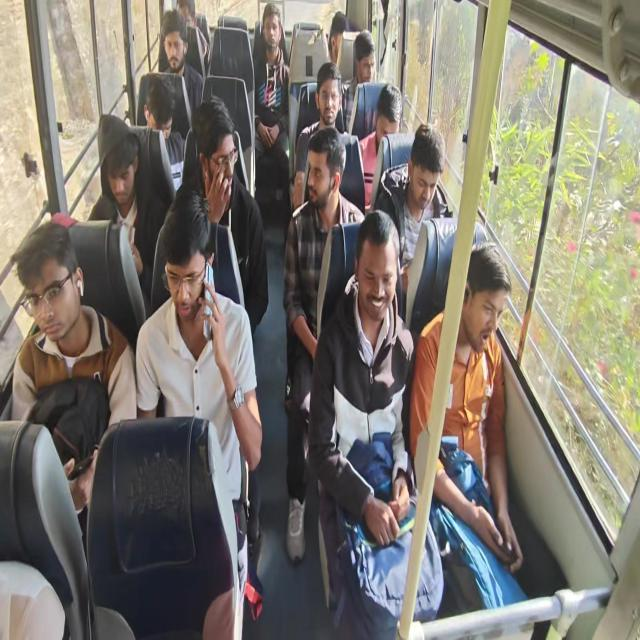person: (10, 3, 546, 637), (308, 209, 444, 638), (135, 185, 263, 637), (11, 221, 137, 544), (409, 242, 524, 575), (283, 126, 366, 563), (178, 95, 269, 337), (87, 113, 167, 315), (373, 122, 448, 314), (253, 2, 291, 218), (293, 61, 347, 209), (157, 9, 204, 140), (358, 82, 403, 212), (144, 77, 186, 192), (341, 29, 376, 132), (175, 0, 209, 79), (327, 10, 347, 66)
